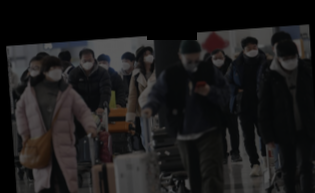with_mask: (280, 53, 299, 71), (182, 56, 200, 73), (47, 64, 65, 81), (27, 64, 41, 78), (244, 44, 259, 57), (211, 54, 225, 67), (141, 50, 154, 64), (81, 56, 94, 70), (120, 57, 131, 70), (97, 59, 109, 70)
